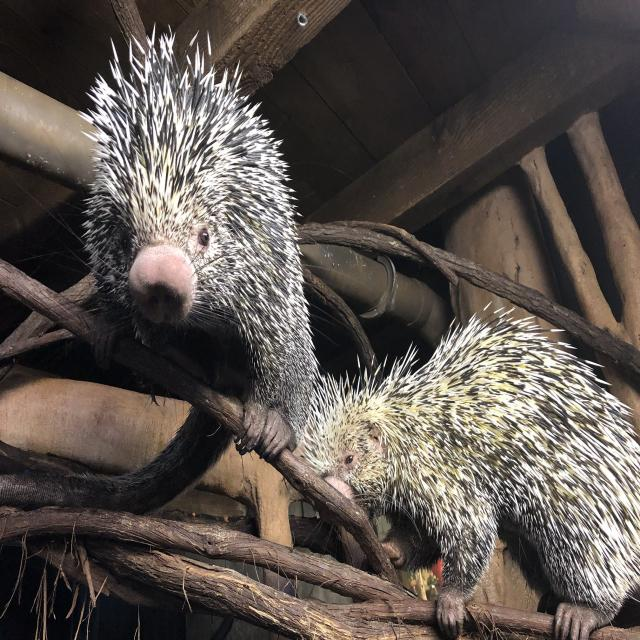Porcupine: (298, 338, 631, 612), (81, 37, 306, 398)
